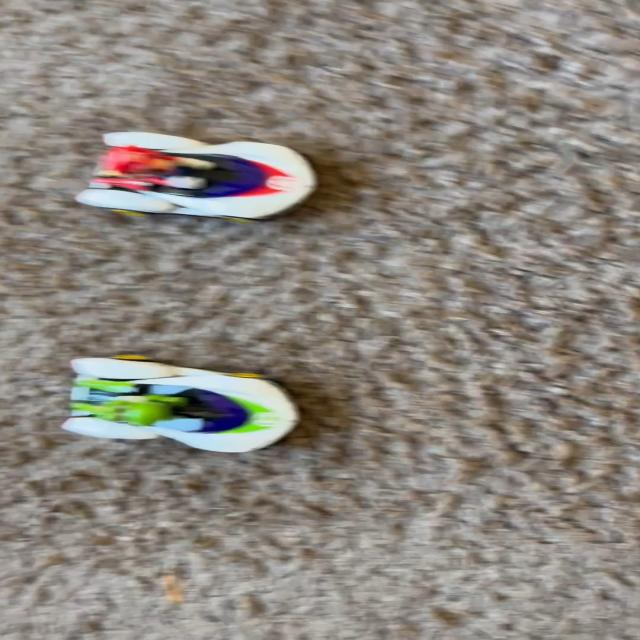mario: (63, 127, 332, 224)
yoshi: (56, 349, 324, 460)
